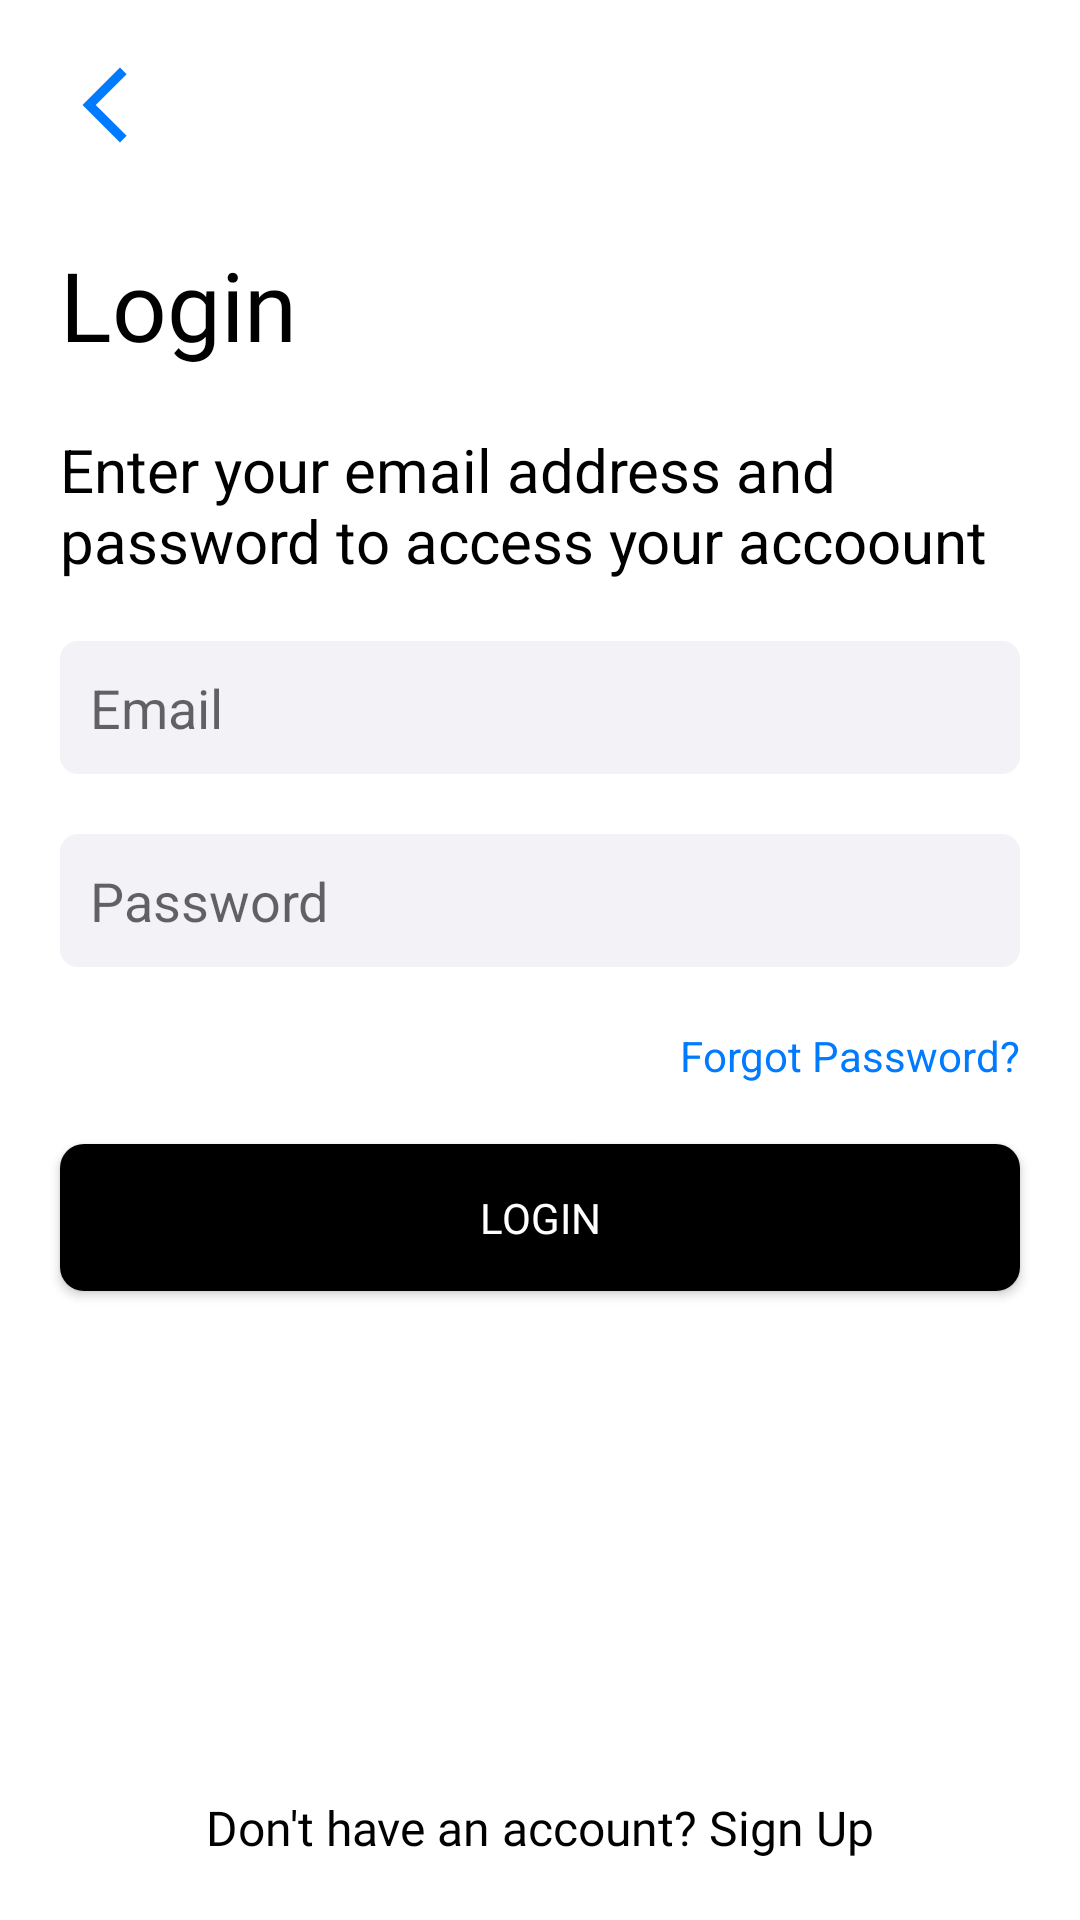

Locate icon controls on the screen. Image size 1080px×1920px, boxes as [x1,y1,x2,y2].
back: [82,67,127,143]
